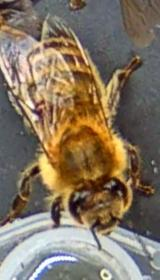varroa_mite: (30, 96, 59, 122)
